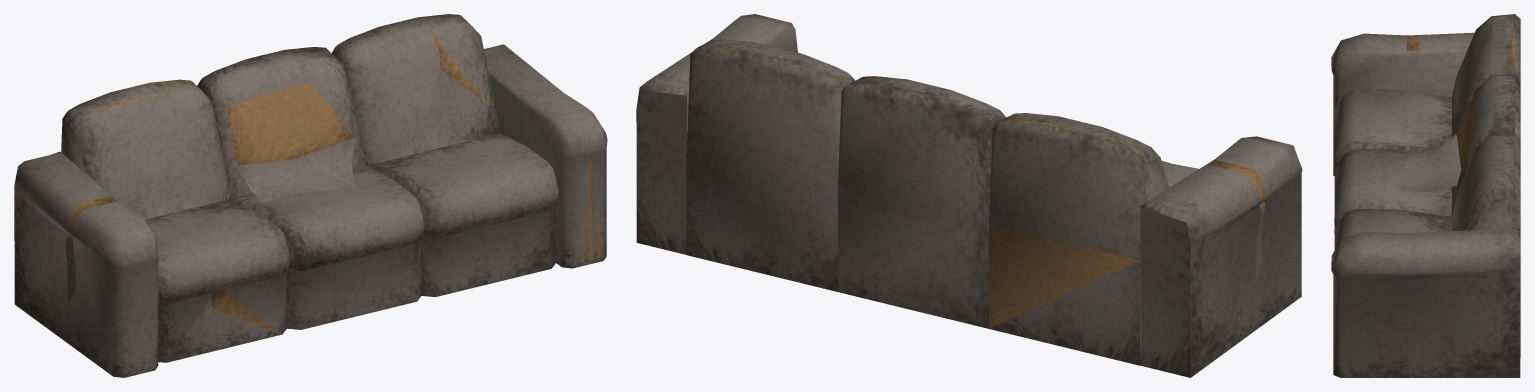
File: BigSofa_broken.FBX
3 views of the same model, side by side, from view 1: azimuth 30°, elevation 25°; view 2: azimuth 150°, elevation 25°; view 3: azimuth 270°, elevation 25° (orthographic). The views are drawn at different scales.
Visible parts, largest first — view 1: BigSofa_broken; view 2: BigSofa_broken; view 3: BigSofa_broken.
Part boxes in pixels (x1,y1,x2,y2): BigSofa_broken: (14,14,607,377); BigSofa_broken: (636,14,1302,377); BigSofa_broken: (1331,14,1520,377).
Bounding box in the file's own units: 225 × 80.32 × 81.64.
